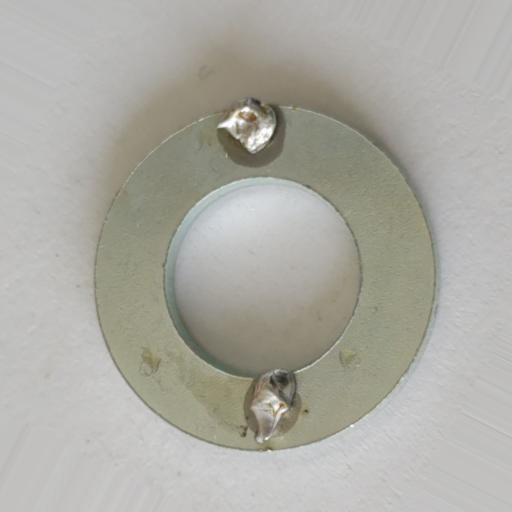excess_material: (243, 367, 303, 445), (215, 96, 278, 154)
